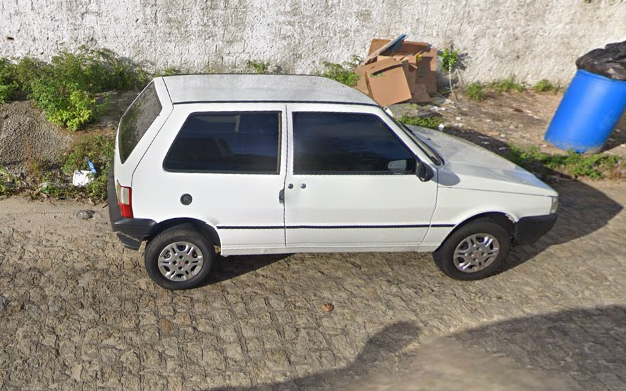car: (99, 70, 561, 292)
